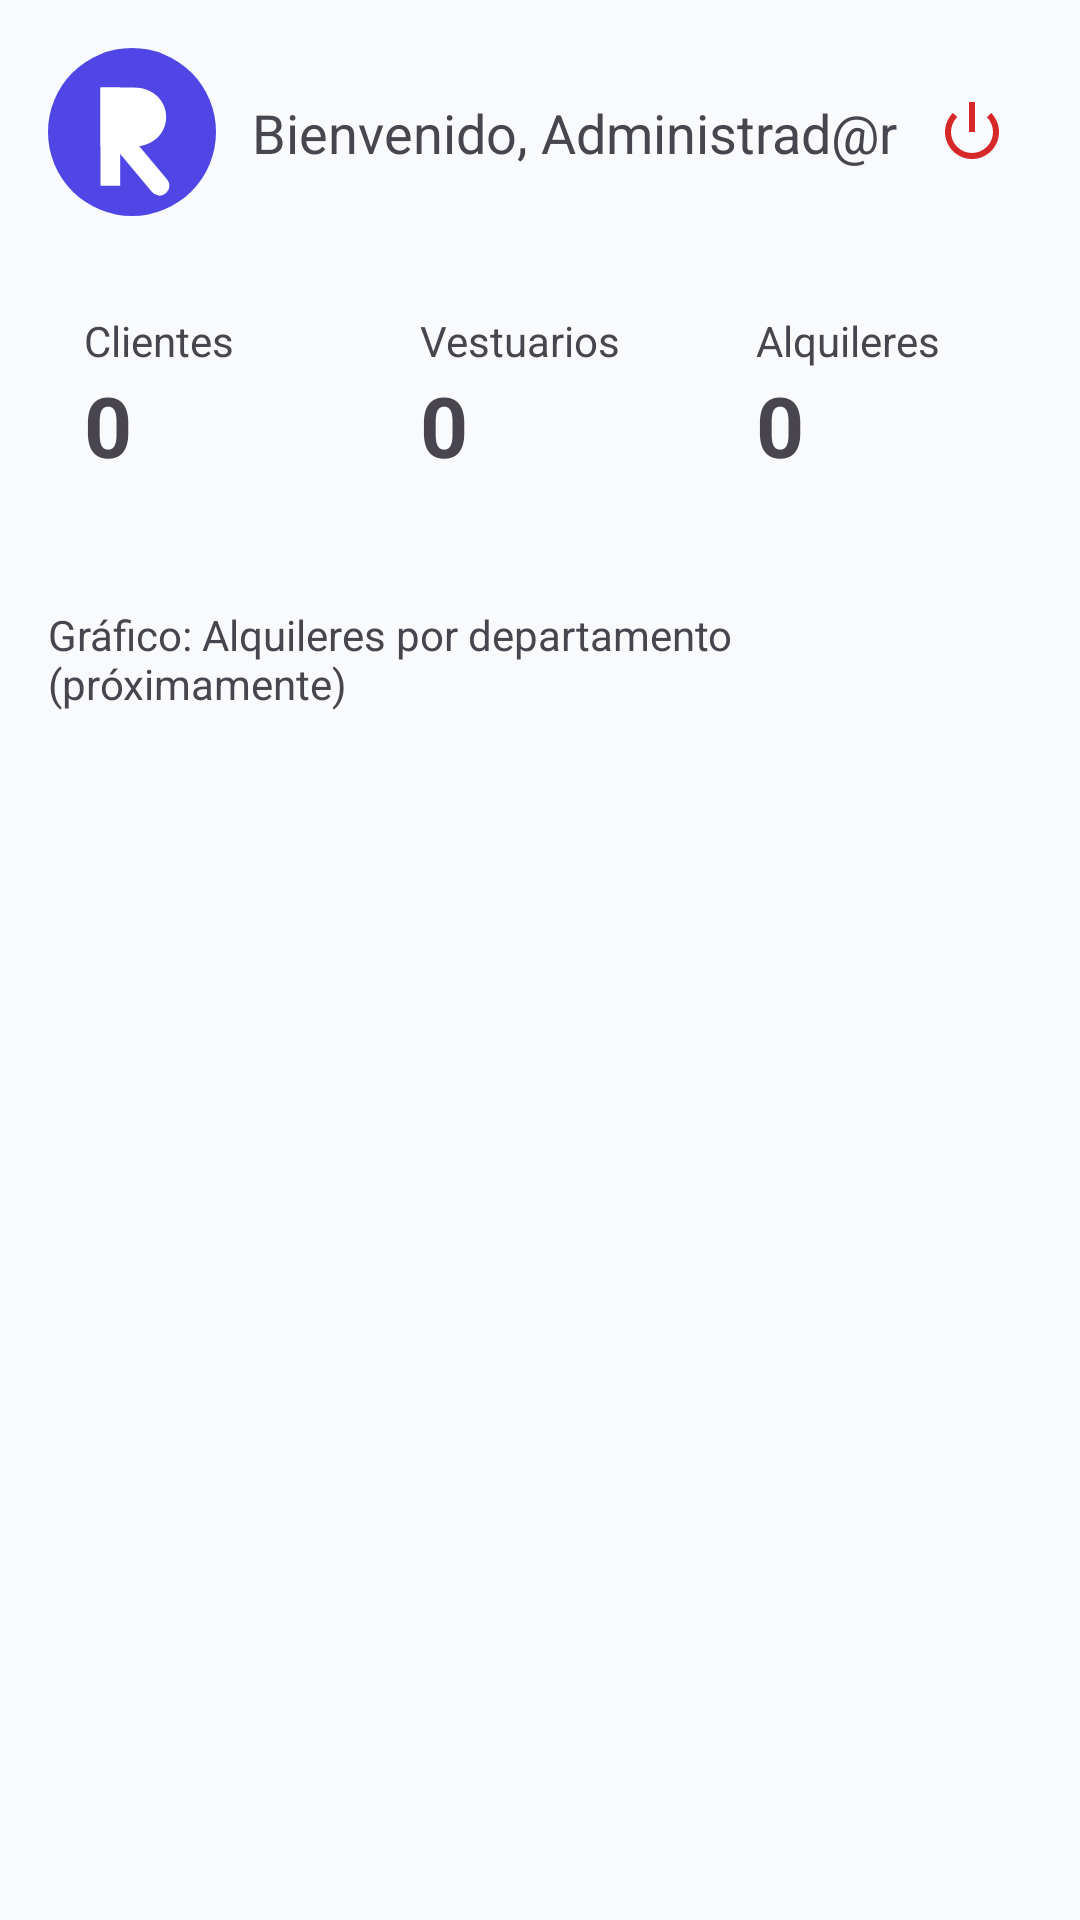

Screen size 1080px×1920px. Icon name, then its center in pixels as point (x, y):
Cerrar Sesión: point (972, 130)
